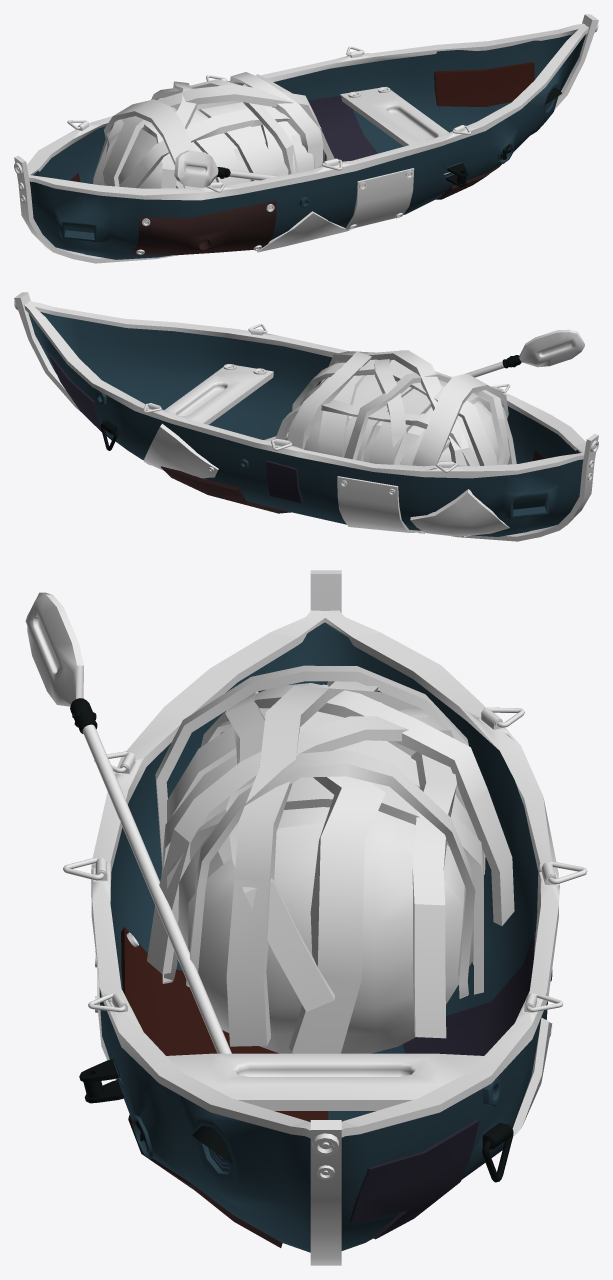
Rendered from KelpBoat01.fbx.
3 renders of one model, top to bottom at view 1: azimuth 30°, elevation 25°; view 2: azimuth 150°, elevation 25°; view 3: azimuth 270°, elevation 25°, orthographic. The views are drawn at different scales.
Parts seen in each view (by area): view 1: BoatBody001, Line007, Object014, Object021, Box008, Line021, Line008, Object020, Line015, Box012, Line006, Line019 (+12 smaller); view 2: BoatBody001, Line007, Box008, Line009, Line019, Line006, Box011, Box012, Line014, Line020, Line021, Box010 (+12 smaller); view 3: BoatBody001, Line007, Box012, Line021, Line014, Box008, Line016, Line020, Line018, Line017, Object019, Object017 (+12 smaller).
Part boxes in pixels (box(x1,y1,x2,y2)): BoatBody001: box(29, 33, 586, 259); Line007: box(27, 23, 588, 200); Object014: box(131, 200, 276, 255); Object021: box(434, 62, 534, 106); Box008: box(340, 86, 450, 174); Line021: box(93, 84, 334, 184); Line008: box(345, 168, 414, 229); Object020: box(308, 96, 377, 161); Line015: box(119, 107, 324, 188); Box012: box(118, 102, 315, 188); Line006: box(14, 14, 598, 263); Line019: box(104, 99, 199, 188); BoatBody001: box(28, 312, 583, 536); Line007: box(24, 301, 586, 478); Box008: box(164, 365, 273, 424); Line009: box(337, 476, 423, 532); Line019: box(412, 373, 508, 466); Line006: box(14, 292, 598, 541); Box011: box(410, 489, 509, 536); Box012: box(300, 374, 499, 465); Line014: box(291, 359, 497, 465); Line020: box(287, 351, 371, 449); Line021: box(328, 350, 470, 536); Box010: box(144, 423, 218, 479); BoatBody001: box(99, 622, 552, 1252); Line007: box(63, 610, 587, 1138); Box012: box(177, 741, 473, 1053); Line021: box(226, 685, 415, 1046); Line014: box(289, 681, 385, 1053); Box008: box(119, 1053, 483, 1110); Line016: box(399, 706, 456, 1038); Line020: box(186, 749, 475, 998); Line018: box(201, 683, 514, 925); Line017: box(147, 716, 485, 974); Object019: box(121, 927, 328, 1122); Object017: box(349, 1120, 479, 1239).
Bounding box in the file's own units: 489 × 137 × 205.
